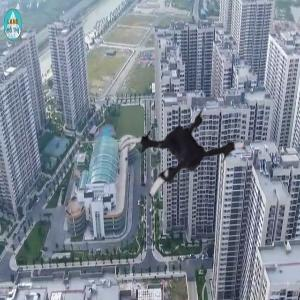drone: (116, 95, 247, 226)
